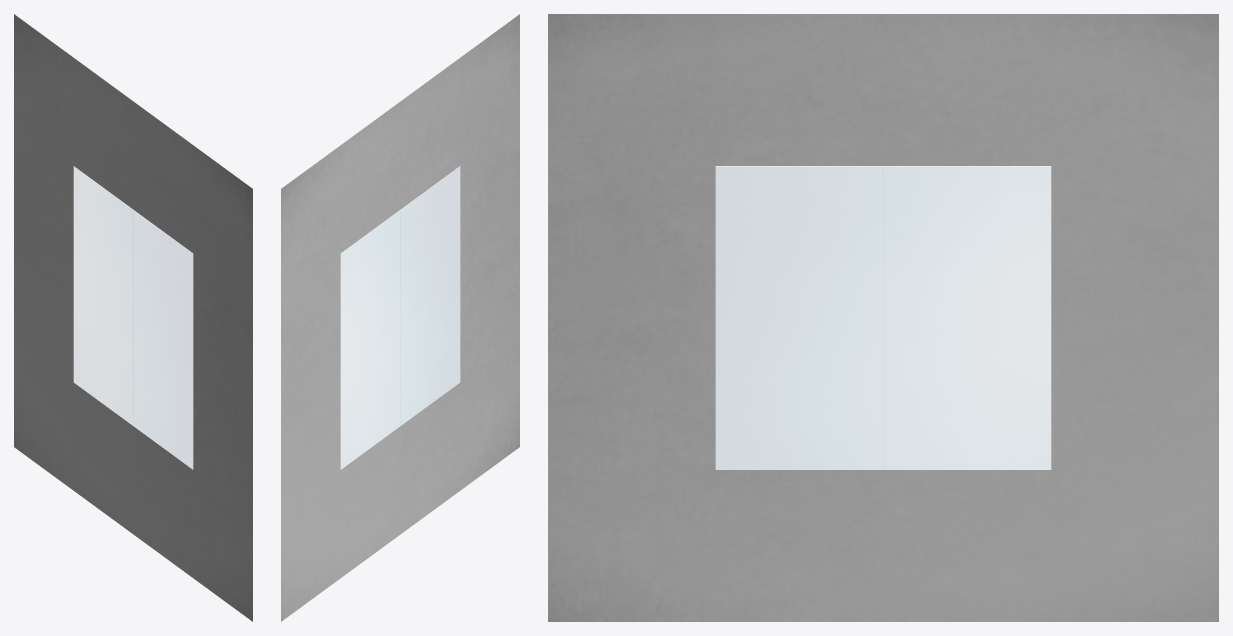
File: paredintv.fbx
The picture shows the model from 3 angles, left to right: view 1: azimuth 30°, elevation 25°; view 2: azimuth 150°, elevation 25°; view 3: azimuth 270°, elevation 25°; orthographic projection. The views are drawn at different scales.
Visible parts, largest first — view 1: Plane; view 2: Plane; view 3: Plane.
Part boxes in pixels (left/top/right/bottom): Plane: left=14, top=14, right=252, bottom=621; Plane: left=281, top=14, right=519, bottom=621; Plane: left=548, top=14, right=1218, bottom=621.
Size of the model in its own units: 2.83e-16 by 1 by 1.
2 materials, 2 textured.
